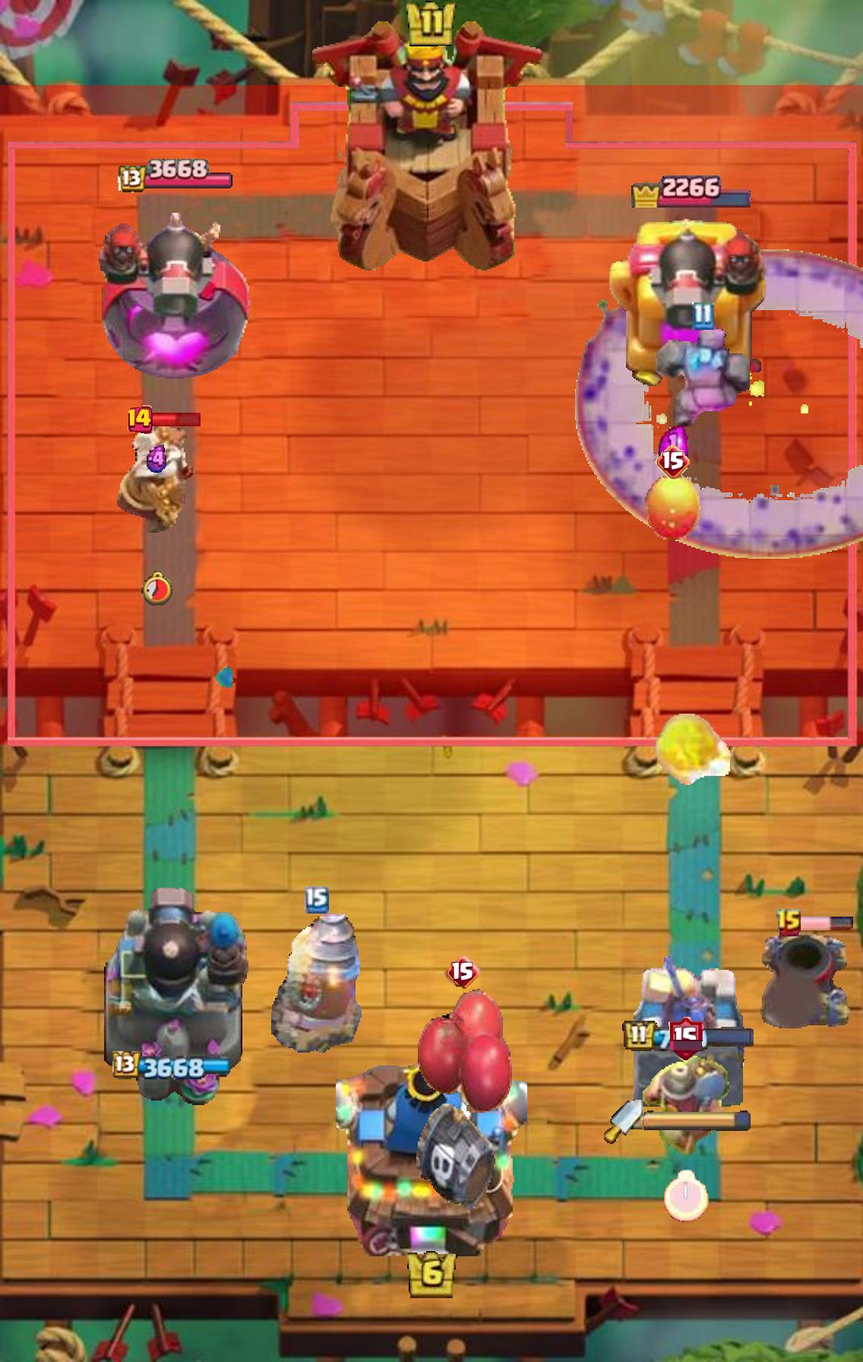bar: (150, 410, 203, 429), (799, 916, 854, 931)
bar-level: (669, 1017, 703, 1061), (444, 955, 481, 989), (656, 445, 691, 480), (776, 908, 803, 939), (128, 405, 153, 434)
